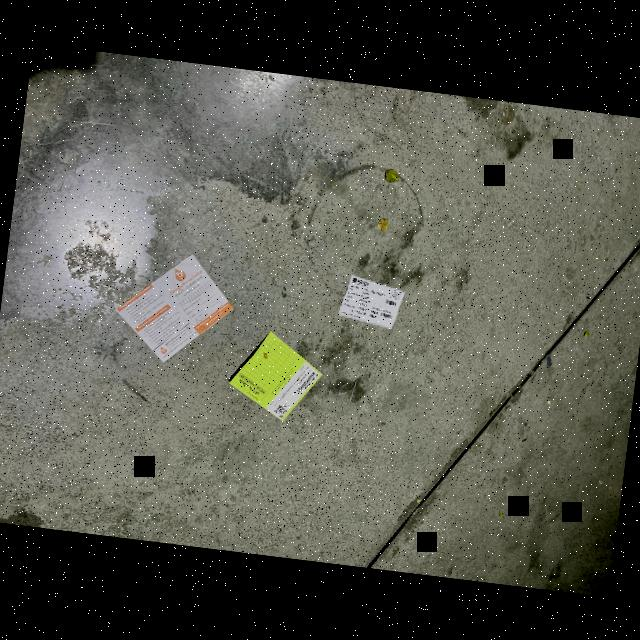scrap_paper: (109, 248, 238, 366), (220, 328, 330, 428), (333, 268, 414, 337)
